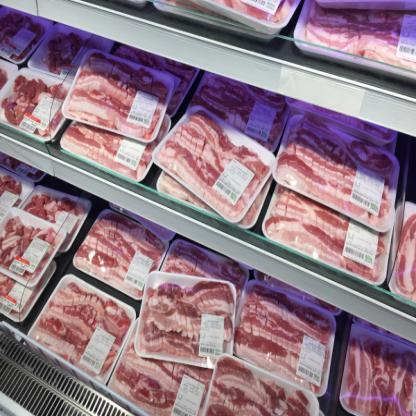pork: (285, 110, 388, 280), (70, 46, 171, 178), (164, 113, 262, 223), (242, 291, 332, 384), (85, 202, 160, 284), (50, 286, 122, 369), (147, 294, 235, 356), (352, 332, 416, 416)
